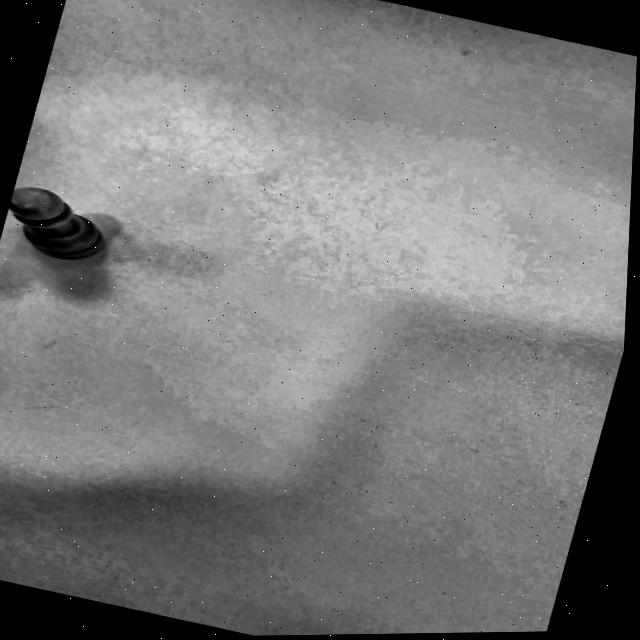white-pawn: (0, 162, 151, 290)
